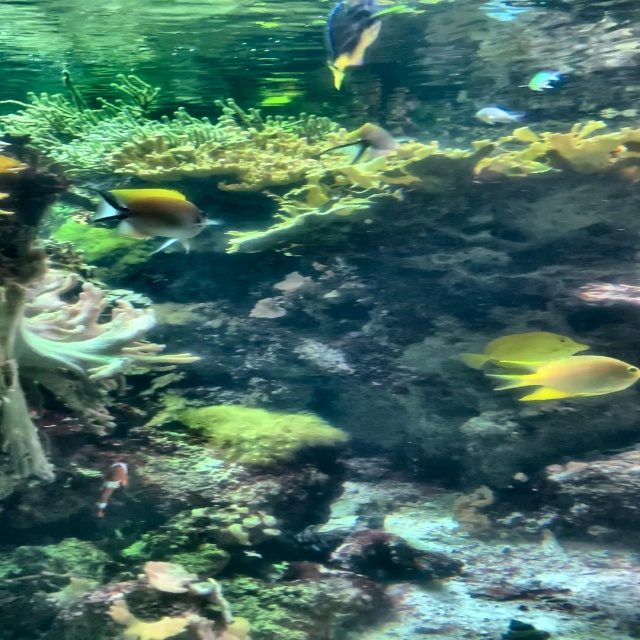fish: (82, 190, 223, 252), (490, 354, 638, 402), (324, 0, 402, 87), (452, 330, 588, 372), (318, 122, 401, 167), (90, 458, 133, 519), (469, 107, 527, 131), (527, 71, 559, 93)
